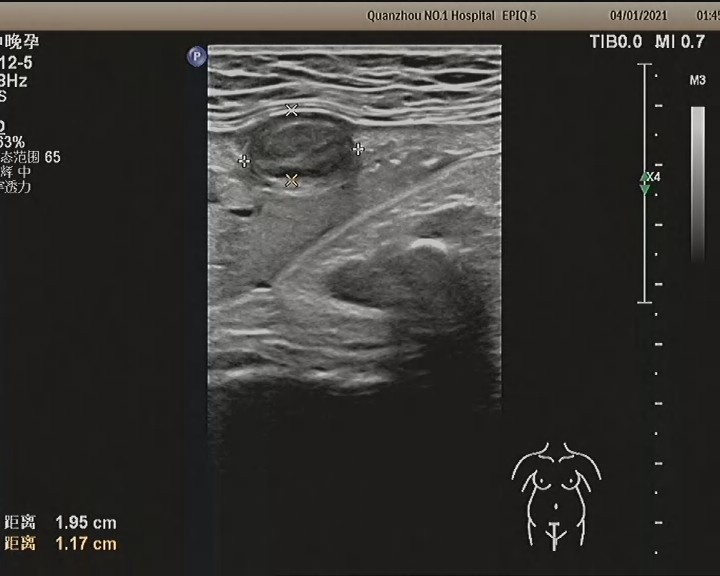肌瘤: (249, 121, 356, 182)
